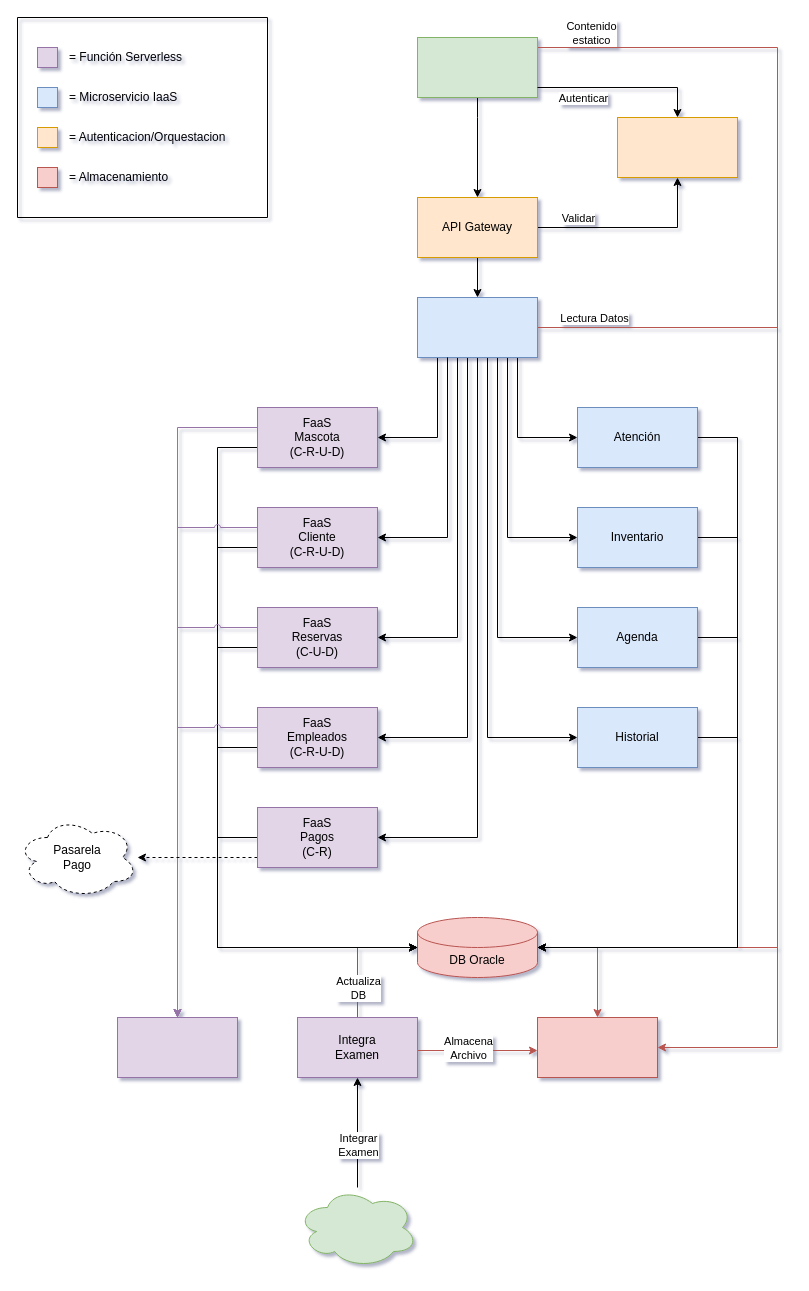
This 809x1291 diagram has some shape labels left out. Each missing label, with the centre of its shape:
BFF: pixel 477 327
Frontend: pixel 477 67
IDaaS: pixel 677 147
Laboratorio: pixel 357 1227
Notificaciones: pixel 177 1047
Storage: pixel 597 1047
